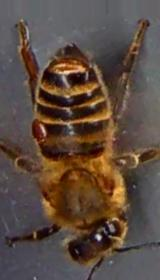varroa_mite: (24, 107, 55, 150)
